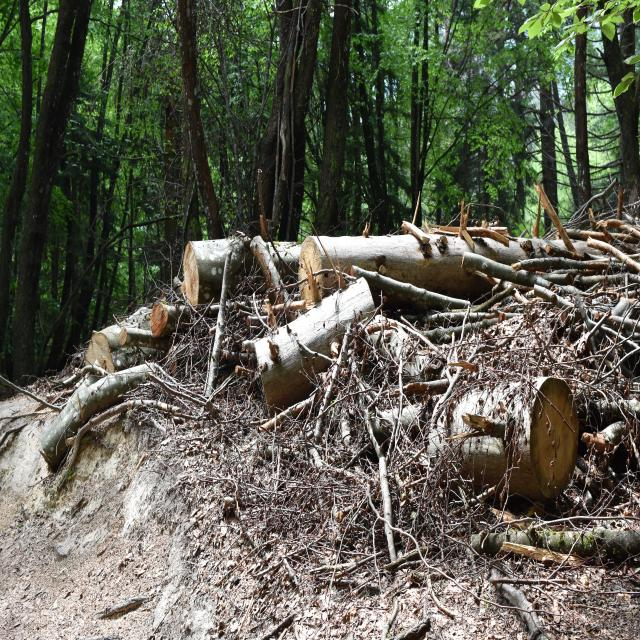restos de madeira: (297, 232, 611, 308), (434, 366, 585, 512), (251, 271, 380, 428), (184, 237, 365, 321), (37, 364, 157, 468), (286, 232, 419, 308), (471, 526, 640, 573), (196, 248, 236, 414), (1, 371, 109, 430), (362, 407, 401, 568), (367, 316, 446, 394), (580, 305, 640, 393), (304, 449, 362, 537), (481, 571, 554, 640), (183, 236, 250, 309), (318, 542, 419, 583), (572, 298, 640, 352), (581, 231, 640, 289), (556, 177, 620, 229), (506, 309, 559, 368), (379, 283, 472, 315), (142, 367, 209, 409), (258, 240, 308, 296), (124, 302, 189, 339), (258, 398, 317, 437), (399, 375, 496, 398), (516, 238, 604, 262), (0, 414, 46, 456), (426, 320, 506, 344), (267, 449, 300, 503), (92, 323, 137, 353), (131, 397, 187, 421), (592, 219, 637, 246), (45, 368, 88, 391), (409, 326, 456, 346)
